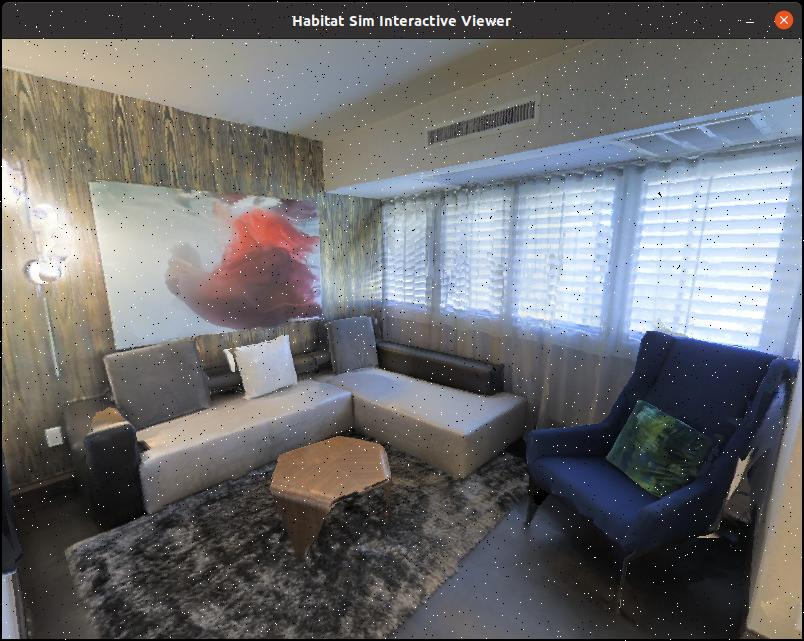chair: (503, 315, 804, 623)
sofa: (52, 289, 543, 536)
